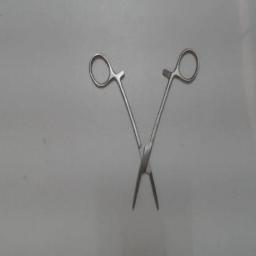Mayo Needle Holder: (88, 44, 202, 214)
